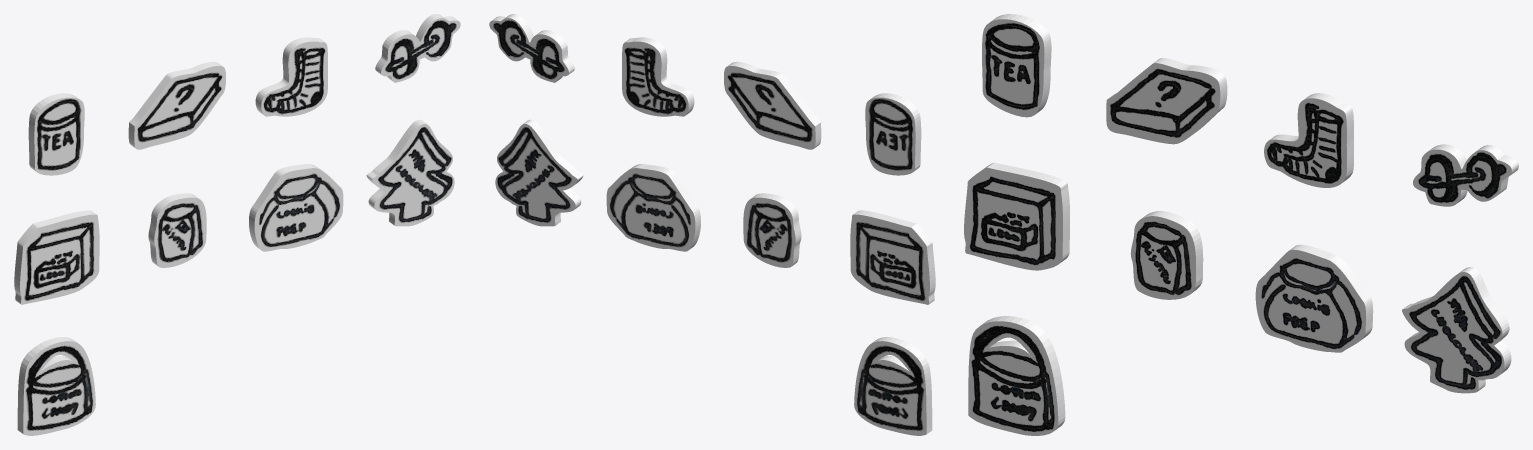
File: Props.glb
3 views of the same model, side by side, from view 1: azimuth 30°, elevation 25°; view 2: azimuth 150°, elevation 25°; view 3: azimuth 330°, elevation 25° (orthographic). The views are drawn at different scales.
Visible parts, largest first — view 1: LegoBox, CottonCandy, CookiePrep, Chocolate, Book, Tea, Socks, Risotto, Dumbbells; view 2: LegoBox, CottonCandy, CookiePrep, Chocolate, Book, Tea, Socks, Risotto, Dumbbells; view 3: CottonCandy, LegoBox, CookiePrep, Chocolate, Book, Tea, Socks, Risotto, Dumbbells.
Boxes of the visible parts, x1,y1,x2,y2 form: LegoBox: [14, 210, 99, 304]; CottonCandy: [17, 337, 95, 435]; CookiePrep: [249, 164, 343, 251]; Chocolate: [366, 119, 454, 226]; Book: [128, 61, 225, 149]; Tea: [28, 93, 84, 175]; Socks: [255, 37, 327, 116]; Risotto: [148, 193, 206, 267]; Dumbbells: [375, 14, 460, 82]; LegoBox: [850, 210, 935, 304]; CottonCandy: [854, 337, 932, 435]; CookiePrep: [606, 164, 700, 251]; Chocolate: [495, 119, 583, 226]; Book: [724, 61, 821, 149]; Tea: [865, 93, 921, 175]; Socks: [622, 37, 694, 116]; Risotto: [743, 193, 801, 267]; Dumbbells: [489, 14, 574, 82]; CottonCandy: [968, 316, 1065, 435]; LegoBox: [964, 162, 1069, 270]; CookiePrep: [1255, 244, 1373, 352]; Chocolate: [1402, 267, 1511, 393]; Book: [1106, 58, 1227, 144]; Tea: [982, 14, 1051, 117]; Socks: [1264, 93, 1353, 187]; Risotto: [1130, 211, 1203, 299]; Dumbbells: [1413, 144, 1518, 206].
Size of the model in its own units: 2.24 by 1.61 by 0.05.
Materials: 9 (9 with a texture image).
